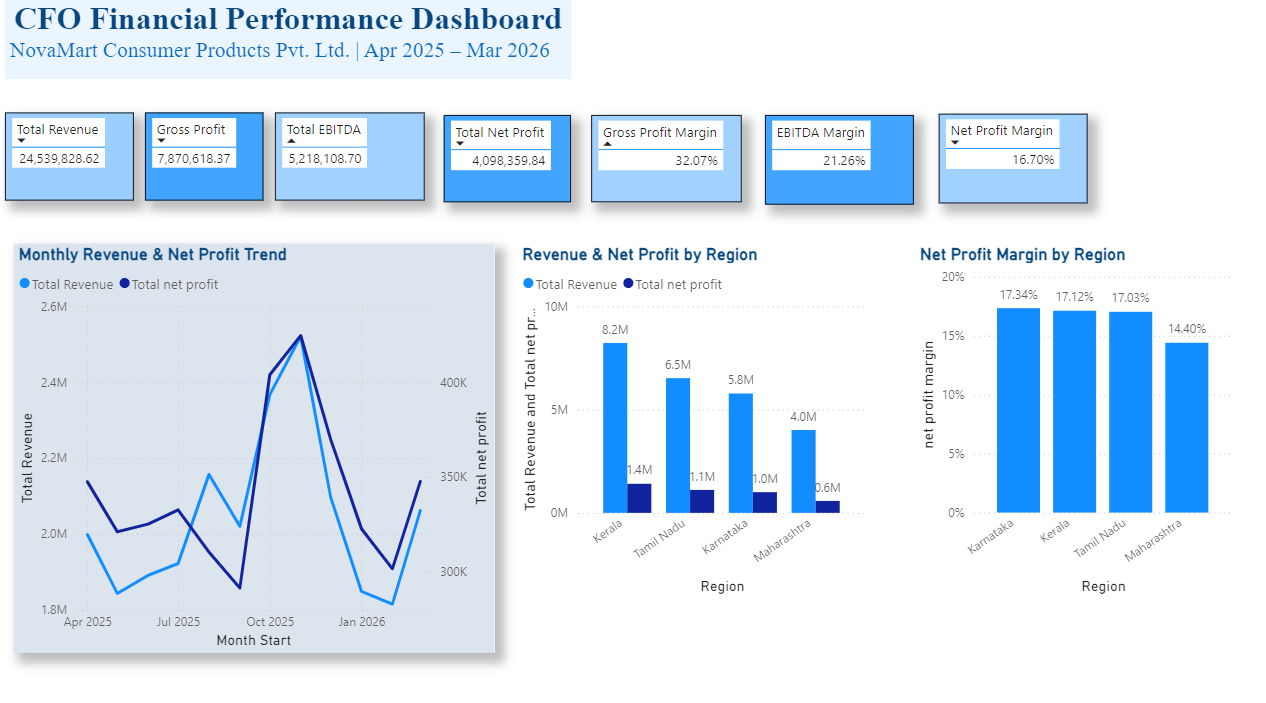

This screenshot's page, from the dashboard's own definition file:
{"tool":"powerbi","page":{"name":"Executive Overview","canvas":[1280,720],"ordinal":0},"visuals":[{"type":"textbox","box":[9.8,0,566.2,84.4],"z":0},{"type":"tableEx","fields":{"Values":["Financial data.Total Revenue"]},"box":[9.6,118,129,87.8],"z":1000},{"type":"tableEx","fields":{"Values":["Financial data.Gross profit"]},"box":[149.6,118,118,87.8],"z":2000},{"type":"tableEx","fields":{"Values":["Financial data.TOTAL EBITDA"]},"box":[279.9,118,149.6,87.8],"z":3000},{"type":"tableEx","fields":{"Values":["Financial data.Total net profit"]},"box":[448.8,119.8,127.2,86.8],"z":4000},{"type":"tableEx","fields":{"Values":["Financial data.gross profit margin"]},"box":[596.7,119.8,150.4,86.8],"z":5000},{"type":"tableEx","fields":{"Values":["Financial data.EBITDA Margin"]},"box":[770.4,119.8,149.2,89.3],"z":6000},{"type":"tableEx","fields":{"Values":["Financial data.net profit margin"]},"box":[944,118.6,149.2,89.3],"z":7000},{"type":"lineChart","title":"Monthly Revenue & Net Profit Trend","fields":{"Y":["Financial data.Total Revenue"],"Y2":["Financial data.Total net profit"],"Category":["Financial data.Month Start"]},"box":[18.3,248.2,480.6,409.6],"z":8000},{"type":"clusteredColumnChart","title":"Revenue & Net Profit by Region","fields":{"Category":["Financial data.Region"],"Y":["Financial data.Total Revenue","Financial data.Total net profit"]},"box":[522.1,248.2,354.6,355.8],"z":9000},{"type":"columnChart","title":"Net Profit Margin by Region","fields":{"Category":["Financial data.Region"],"Y":["Financial data.net profit margin"]},"box":[919.6,248.2,322.8,355.8],"z":10000}]}

Visuals, with their boxes in screenshot pixels (x1, y1, x2, y2), scaled from the page's 1280x720 canvas onto the 1266x703 screenshot:
textbox: box(10, 0, 570, 82)
tableEx - Financial data.Total Revenue: box(9, 115, 137, 201)
tableEx - Financial data.Gross profit: box(148, 115, 265, 201)
tableEx - Financial data.TOTAL EBITDA: box(277, 115, 425, 201)
tableEx - Financial data.Total net profit: box(444, 117, 570, 202)
tableEx - Financial data.gross profit margin: box(590, 117, 739, 202)
tableEx - Financial data.EBITDA Margin: box(762, 117, 910, 204)
tableEx - Financial data.net profit margin: box(934, 116, 1081, 203)
"Monthly Revenue & Net Profit Trend" lineChart: box(18, 242, 493, 642)
"Revenue & Net Profit by Region" clusteredColumnChart: box(516, 242, 867, 590)
"Net Profit Margin by Region" columnChart: box(910, 242, 1229, 590)
